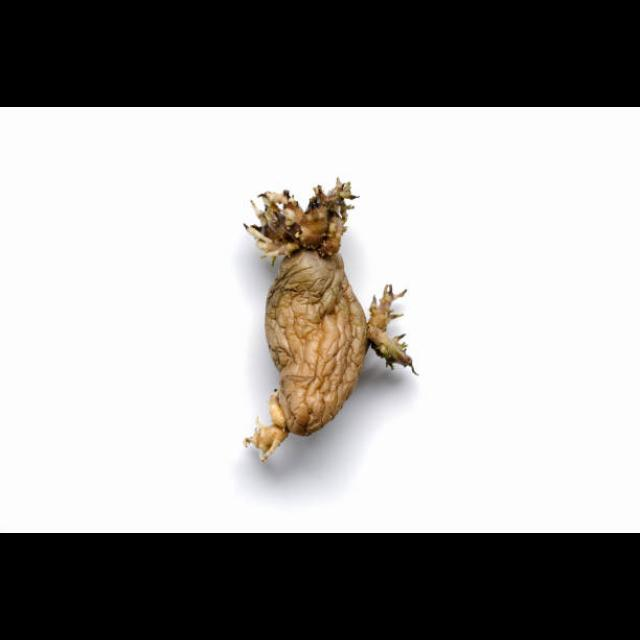Sprouted potato: (218, 156, 434, 486)
